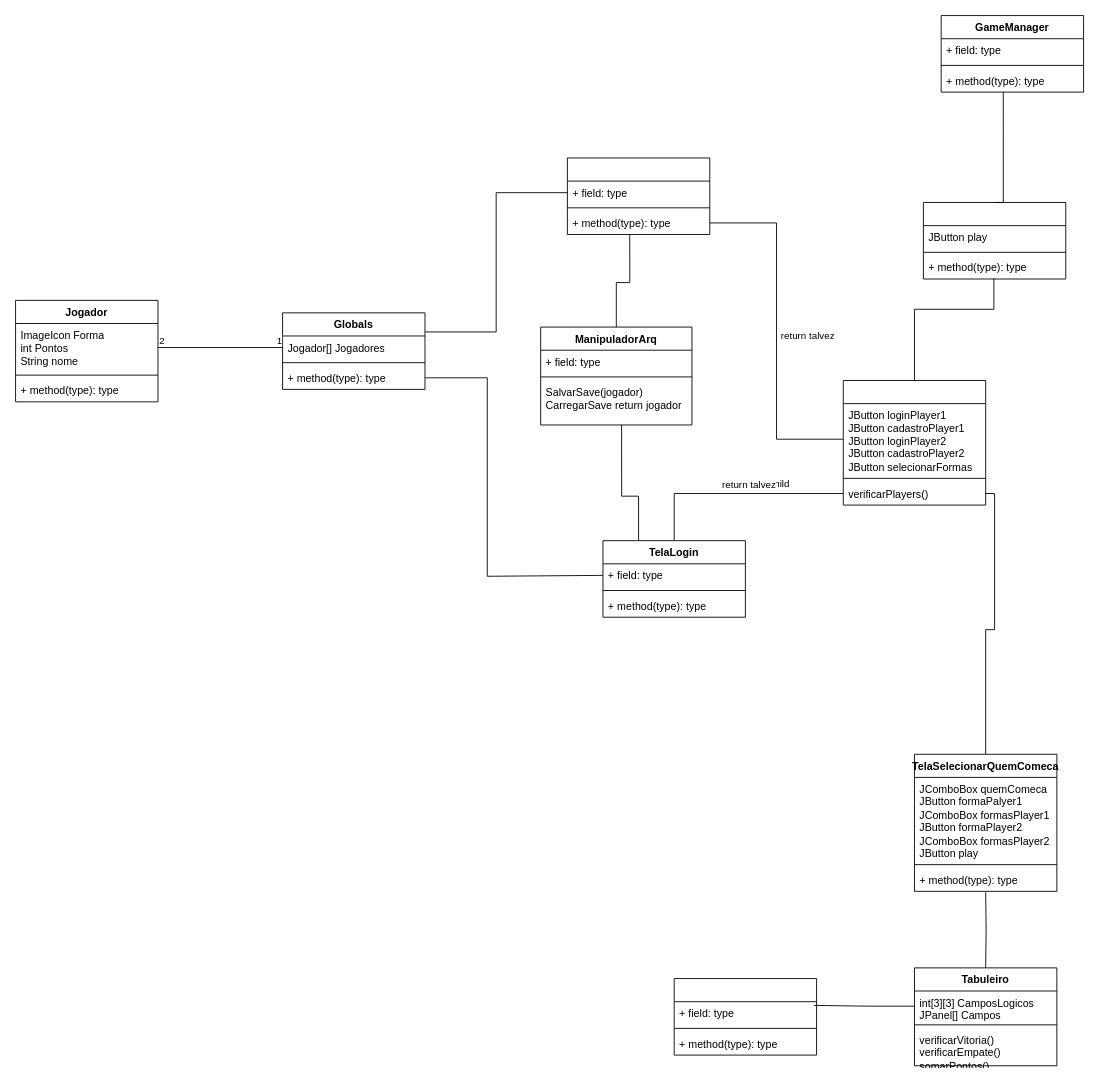
This 1099x1087 diagram has some shape labels left out. The shapes that lost their labels are listed below. From the top down, each one's box as (x1, y1, x2, y2) in pixels, then its label:
(566, 157, 710, 235): TelaCadastro
(922, 202, 1066, 279): TelaPlay
(842, 380, 986, 505): TelaRegistro
(673, 978, 817, 1055): TelaJogarDenovo
